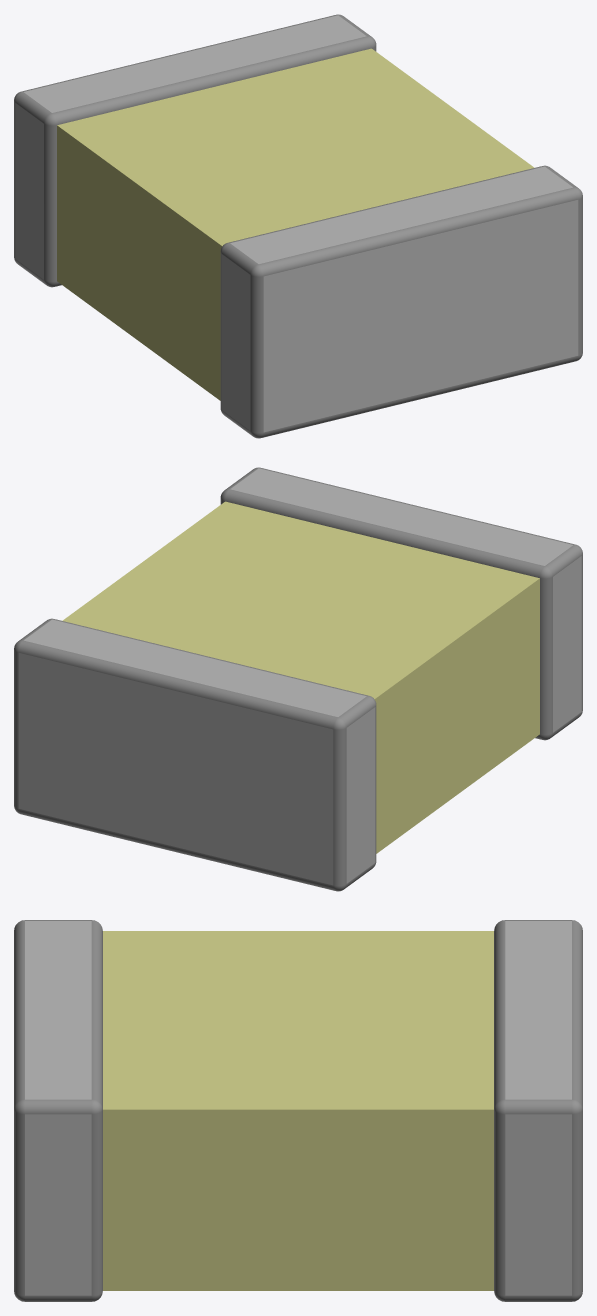
The picture shows the model from 3 angles, top to bottom: view 1: azimuth 30°, elevation 25°; view 2: azimuth 150°, elevation 25°; view 3: azimuth 270°, elevation 25°; orthographic projection. The views are drawn at different scales.
Parts seen in each view (by area): view 1: Ceramic Capacitor; view 2: Ceramic Capacitor; view 3: Ceramic Capacitor.
Boxes of the visible parts, x1,y1,x2,y2 form: Ceramic Capacitor: [14, 14, 582, 438]; Ceramic Capacitor: [14, 467, 582, 891]; Ceramic Capacitor: [14, 920, 582, 1301].
Size of the model in its own units: 0.0025 by 0.00125 by 0.0032.
